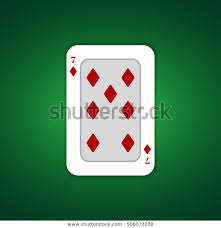seven of diamonds: (65, 44, 156, 175)
